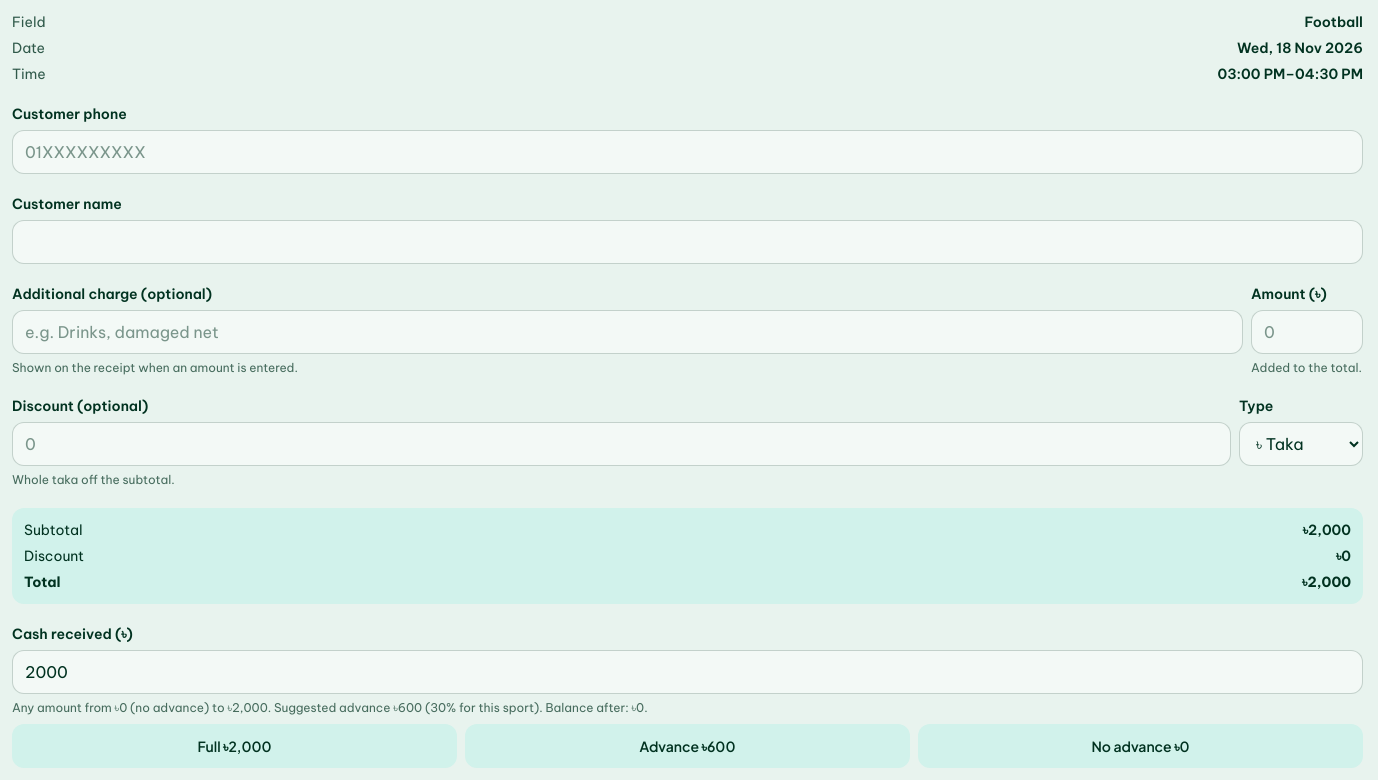
WalkInForm discount › a percent discount
Later steps or results of the test are not shown.
expect the button "Full ৳2,000" is shown: met, box [12,724,457,768]
Select "% Percent" in the dropdown named "Discount type". click: coordinates (1301, 444)
box: [1239,422,1363,466]
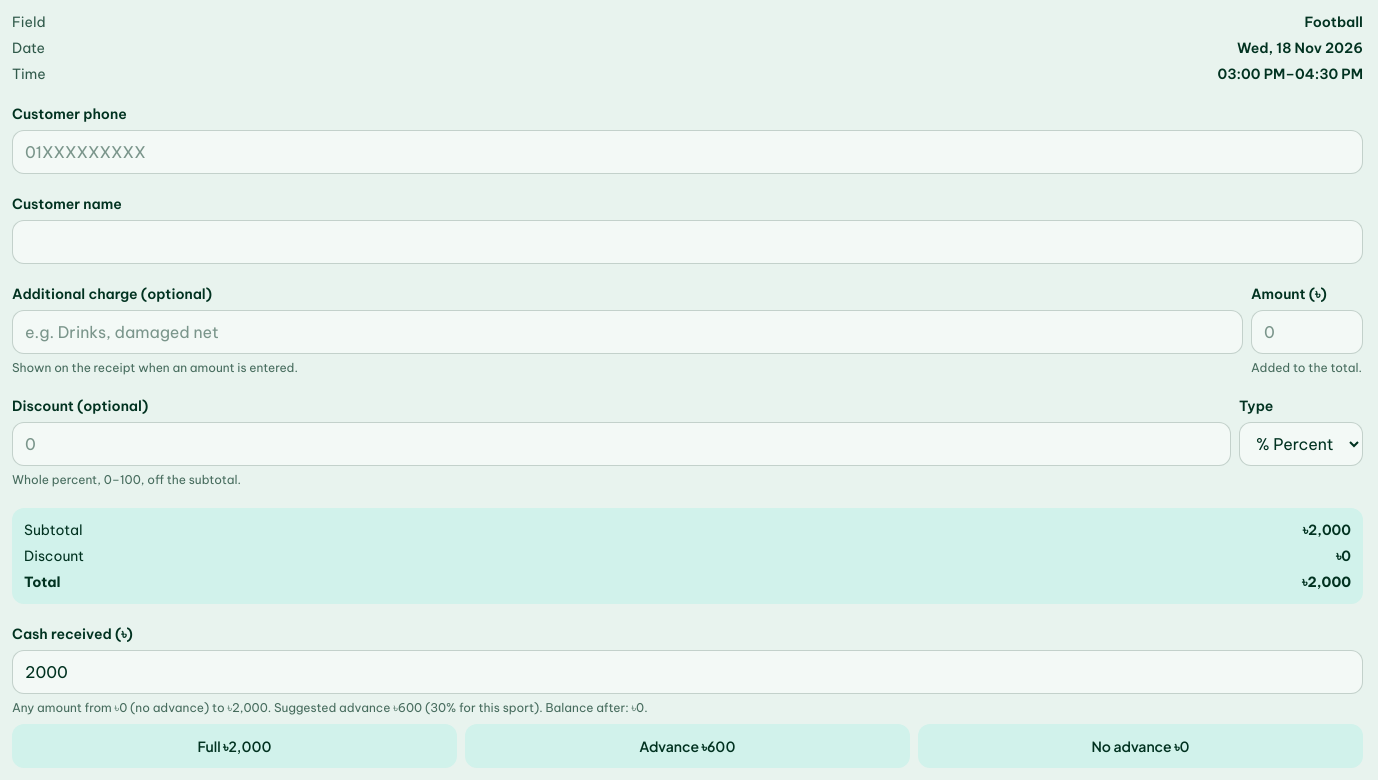
Type "10" into the number field labelled "Discount (optional)". click: coordinates (622, 444)
box: [12,422,1231,466]
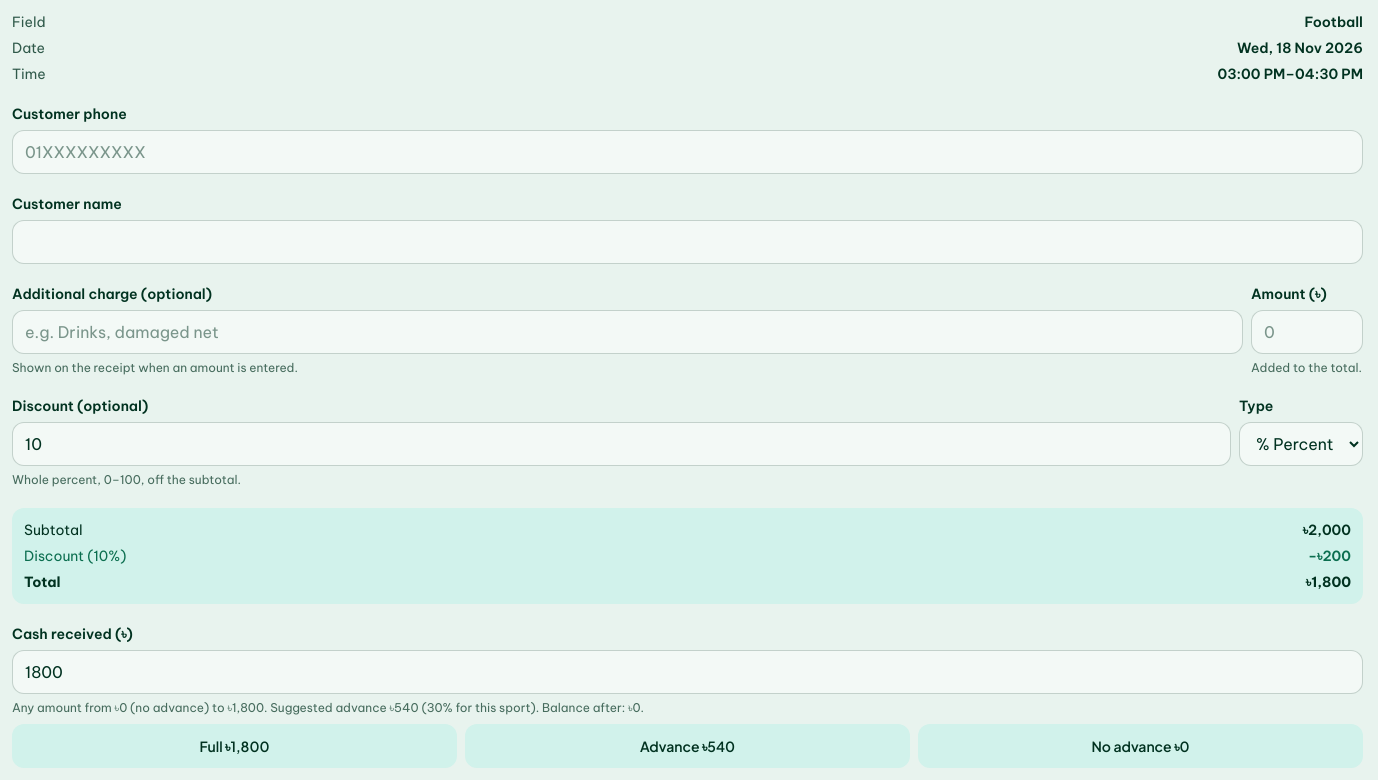
expect the text "Discount (10%)" shows "−৳200": met, box [1308,547,1351,565]
expect the text "Total" shows "৳1,800": met, box [1306,573,1351,591]
